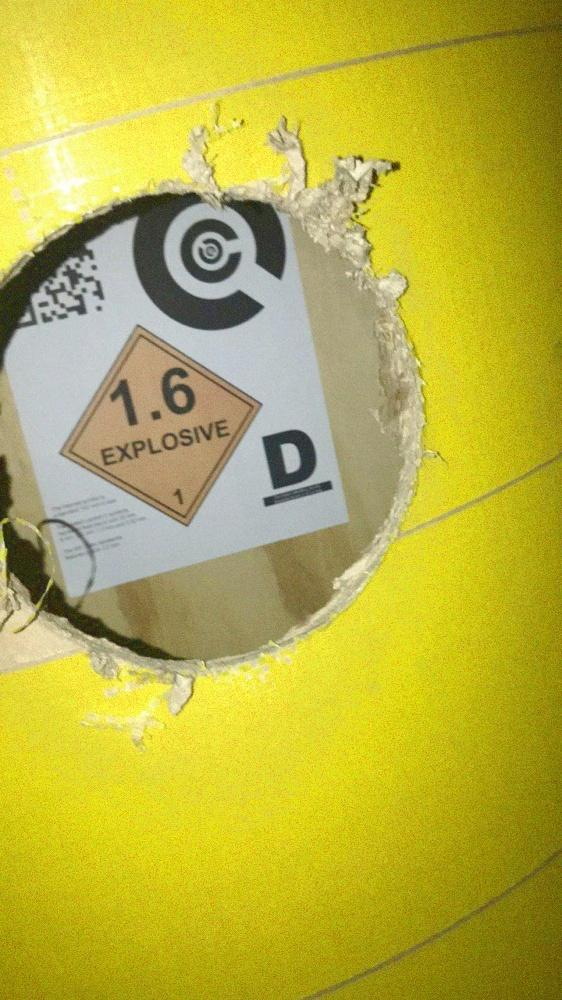explosive: (51, 319, 260, 524)
